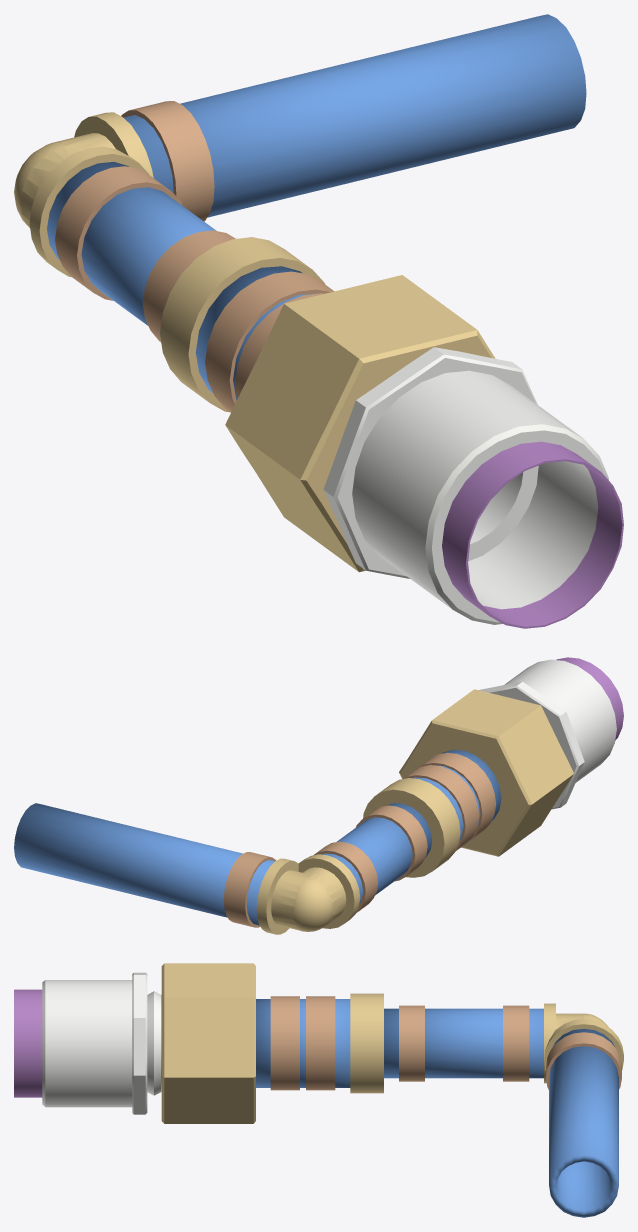
File: pipes_supply__water-city_filter_and_softener-no_and_plumbing-pex.glb
The picture shows the model from 3 angles, top to bottom: view 1: azimuth 30°, elevation 25°; view 2: azimuth 150°, elevation 25°; view 3: azimuth 270°, elevation 25°; orthographic projection. The views are drawn at different scales.
Parts seen in each view (by area): view 1: fit_bushing_pipe_supply_entry_direct__pex, pipe_supply_entry_direct__pex, fit_pexelbow_pipe_supply_entry_direct__pex_0; view 2: fit_bushing_pipe_supply_entry_direct__pex, pipe_supply_entry_direct__pex, fit_pexelbow_pipe_supply_entry_direct__pex_0; view 3: fit_bushing_pipe_supply_entry_direct__pex, pipe_supply_entry_direct__pex, fit_pexelbow_pipe_supply_entry_direct__pex_0.
Part boxes in pixels (bbox=[...]): fit_bushing_pipe_supply_entry_direct__pex: bbox=[142, 230, 623, 628]; pipe_supply_entry_direct__pex: bbox=[47, 14, 586, 325]; fit_pexelbow_pipe_supply_entry_direct__pex_0: bbox=[14, 101, 214, 300]; fit_bushing_pipe_supply_entry_direct__pex: bbox=[356, 657, 623, 881]; pipe_supply_entry_direct__pex: bbox=[14, 803, 432, 925]; fit_pexelbow_pipe_supply_entry_direct__pex_0: bbox=[223, 841, 377, 934]; fit_bushing_pipe_supply_entry_direct__pex: bbox=[14, 963, 424, 1123]; pipe_supply_entry_direct__pex: bbox=[384, 1008, 618, 1217]; fit_pexelbow_pipe_supply_entry_direct__pex_0: bbox=[503, 1003, 623, 1089].
Bounding box in the file's own units: 0.1329 × 0.0481 × 0.194.
